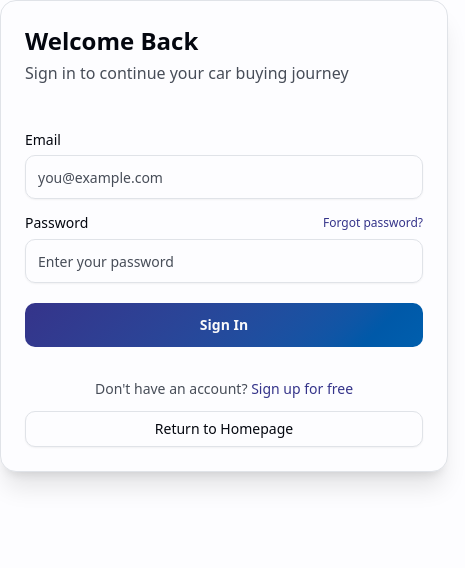
Scenario: SignInForm — Frontend Behavioral Tests › Invalid credentials › shows truthful error for wrong password
This screenshot has width=465, height=568.
Type "user@example.com" into the field labelled "Email" at (224, 177), box [25,155,423,199]
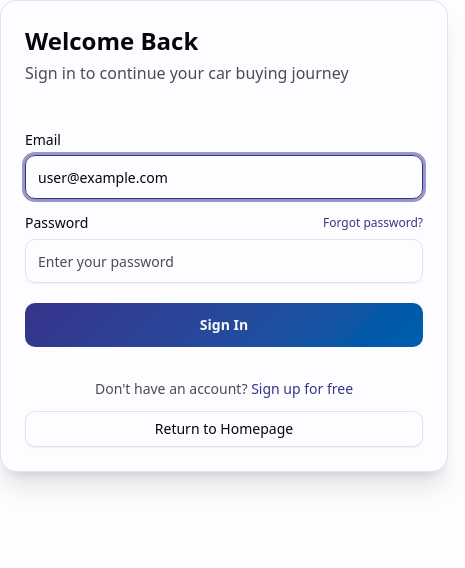
Type "wrong" into the password field labelled "Password" at (224, 261), box [25,239,423,283]
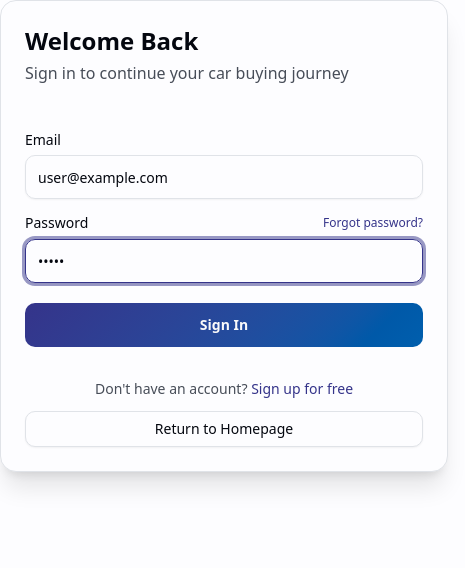
Click the button "Sign In" at (224, 325), box [25,303,423,347]
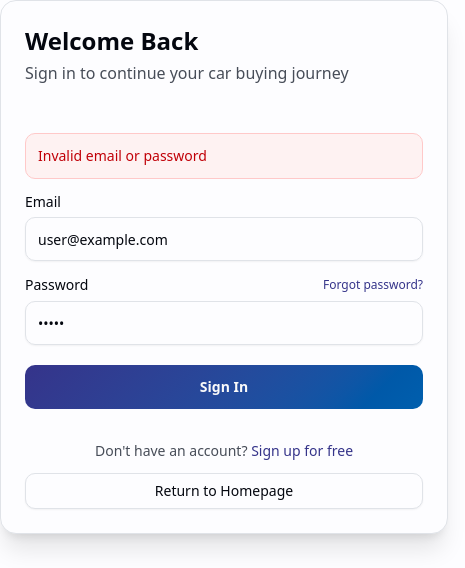
expect the text "Invalid email or password" is shown: met, box [25,133,423,179]
